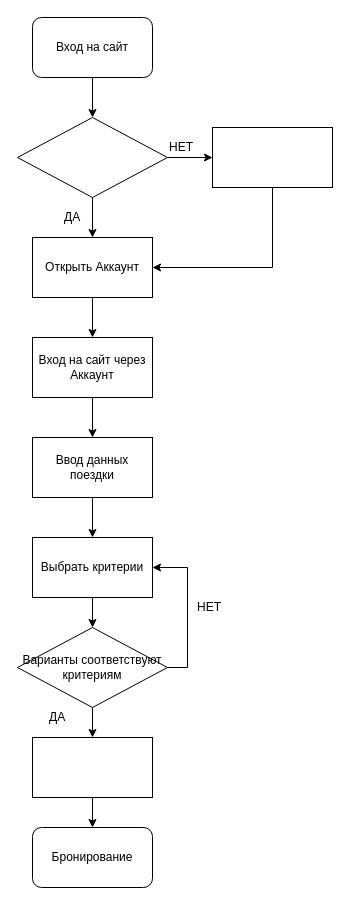
Image size: 350x905. Some labels were removed from this diagram. The box of each missing label's shape, as (x1, y1, x2, y2) in pixels:
Выбрать отель: (32, 736, 152, 798)
Есть Аккаунт: (16, 116, 168, 198)
Зарегистрироваться: (212, 126, 332, 188)
